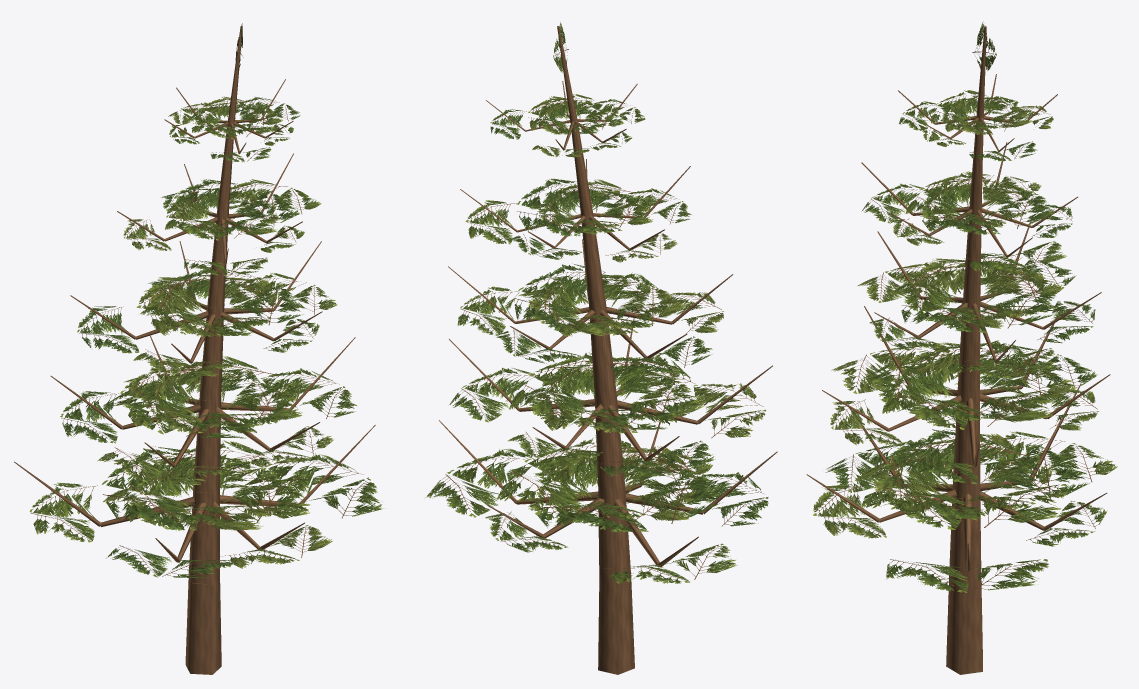
The model's file is shore-pine-far.glb.
The picture shows the model from 3 angles, left to right: view 1: azimuth 30°, elevation 25°; view 2: azimuth 150°, elevation 25°; view 3: azimuth 270°, elevation 25°; orthographic projection. The views are drawn at different scales.
Visible parts, largest first — view 1: Crown_Foliage, Trunk_Wood; view 2: Crown_Foliage, Trunk_Wood; view 3: Crown_Foliage, Trunk_Wood.
Part boxes in pixels (x1,y1,x2,y2): Crown_Foliage: (29, 23, 383, 578); Trunk_Wood: (14, 26, 375, 674); Crown_Foliage: (425, 22, 768, 583); Trunk_Wood: (439, 26, 777, 674); Crown_Foliage: (813, 21, 1117, 592); Trunk_Wood: (806, 26, 1110, 674).
Size of the model in its own units: 6.98 by 13.25 by 5.64.
Materials: 2 (2 with a texture image).
